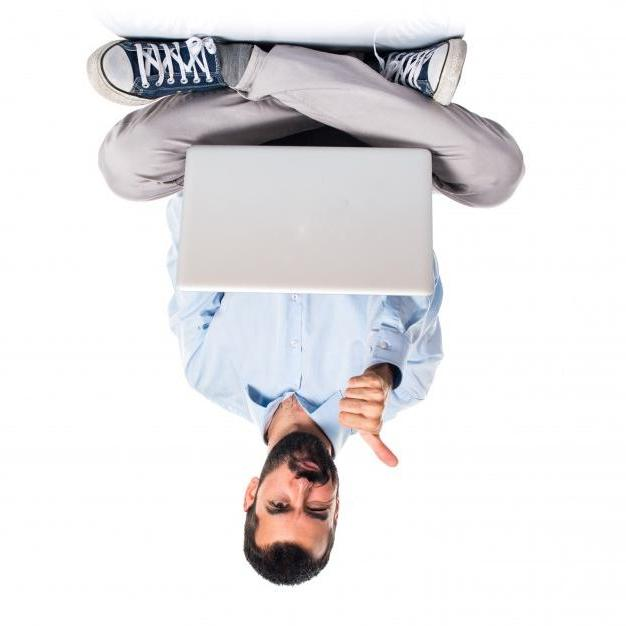thumbsdown: (338, 374, 398, 467)
